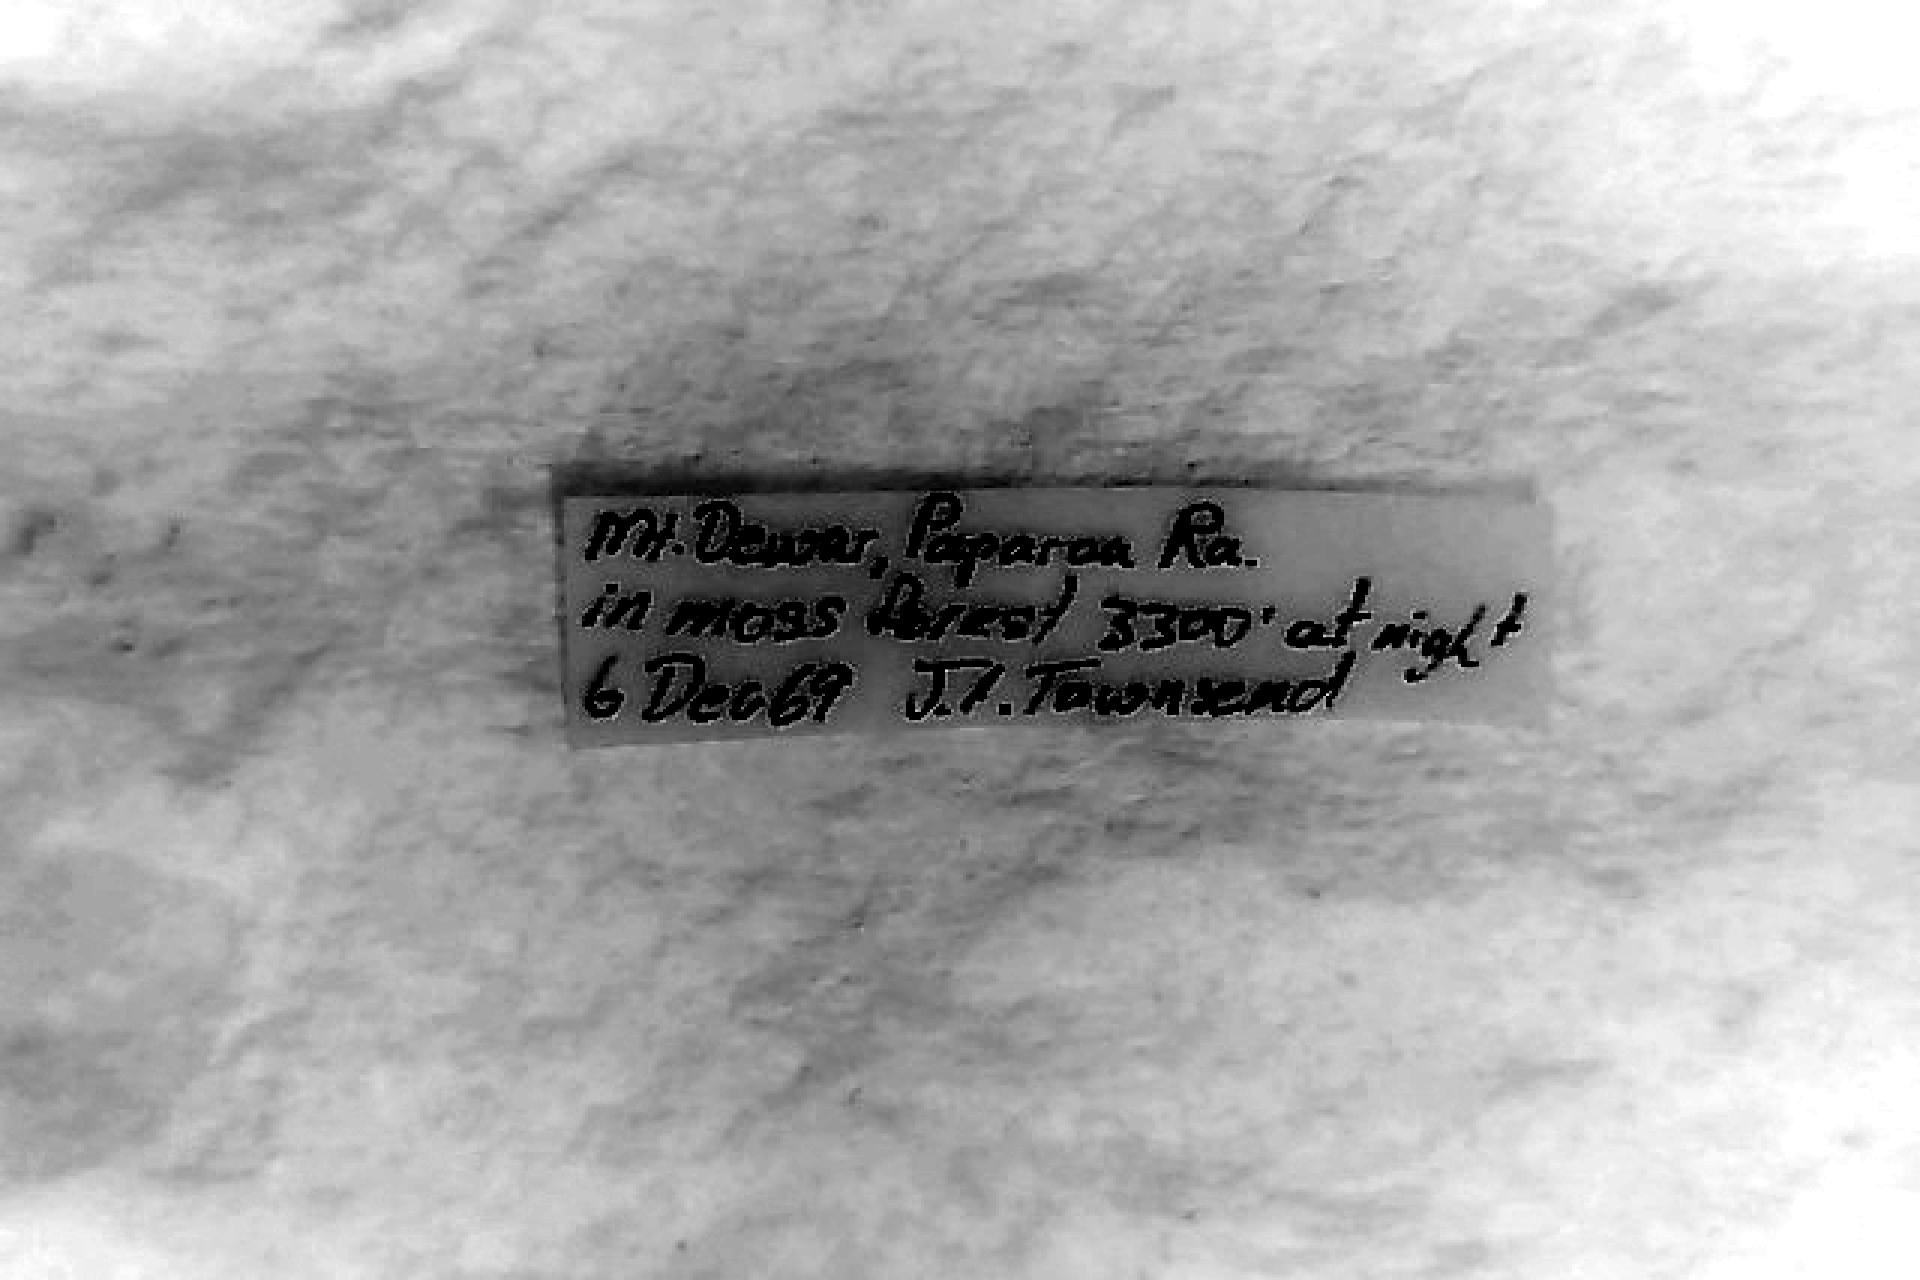hand_label: (563, 487, 1546, 743)
